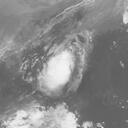cyclone: (37, 51, 77, 96)
